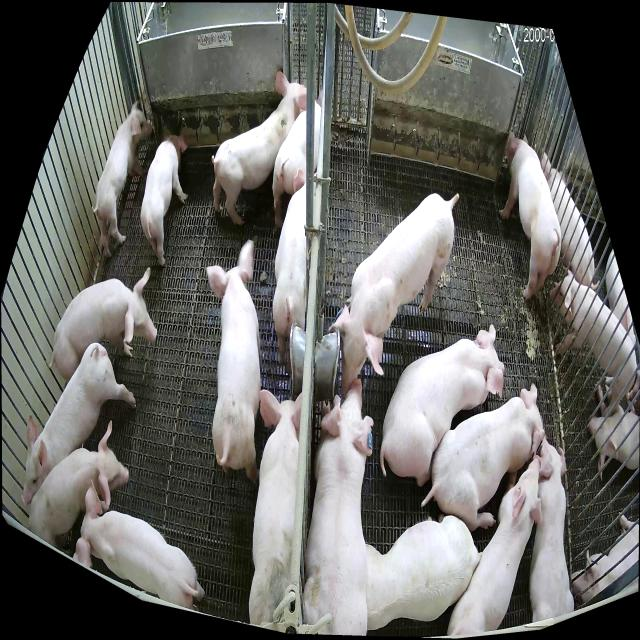pig: (331, 193, 460, 391), (380, 324, 505, 486), (421, 383, 545, 531), (22, 345, 136, 504), (304, 379, 372, 638), (72, 480, 204, 611), (449, 457, 543, 633), (212, 71, 307, 224), (206, 241, 262, 484), (364, 516, 481, 630), (45, 266, 157, 383), (28, 419, 129, 548), (249, 390, 302, 624), (496, 135, 561, 296), (91, 101, 152, 258), (531, 437, 575, 622), (273, 91, 322, 228), (141, 128, 188, 266), (273, 184, 306, 364)
